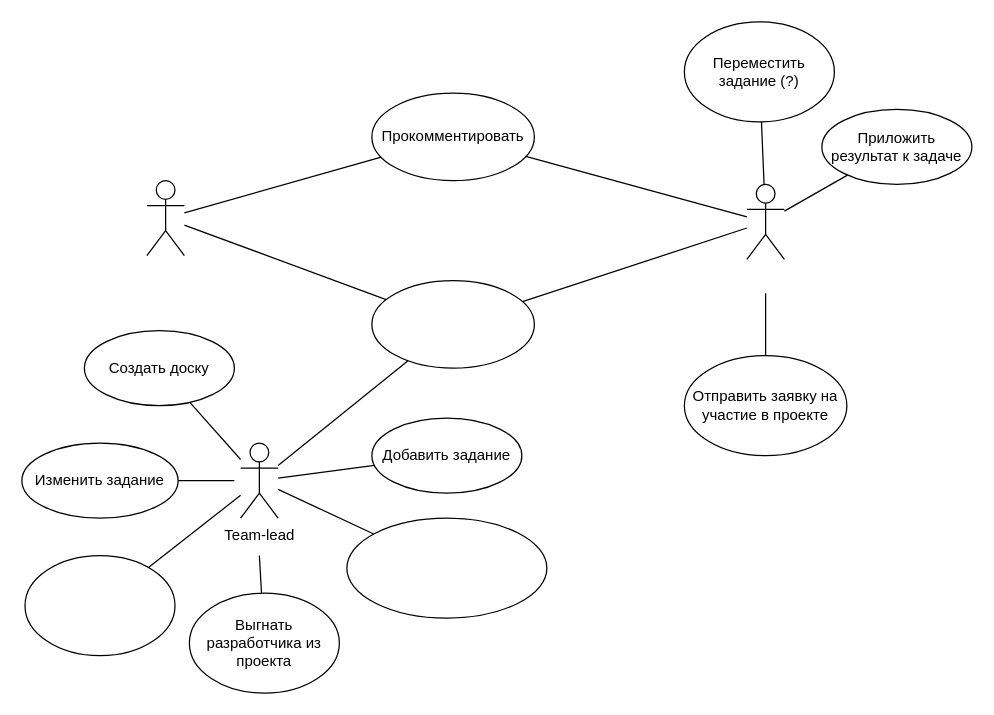
The diagram is 994 pixels wide and 715 high, and some of its shapes have lost their labels. The centre of each missing label's shape, as x and y in pixels:
"Заказчик" goes at (165,217).
"Назначить задание" goes at (99,605).
"Принять или отклонить заявку разработчика на участие в проекте" goes at (446,567).
"Просмотреть доску" goes at (452,323).
"Разработчик" goes at (765,221).
